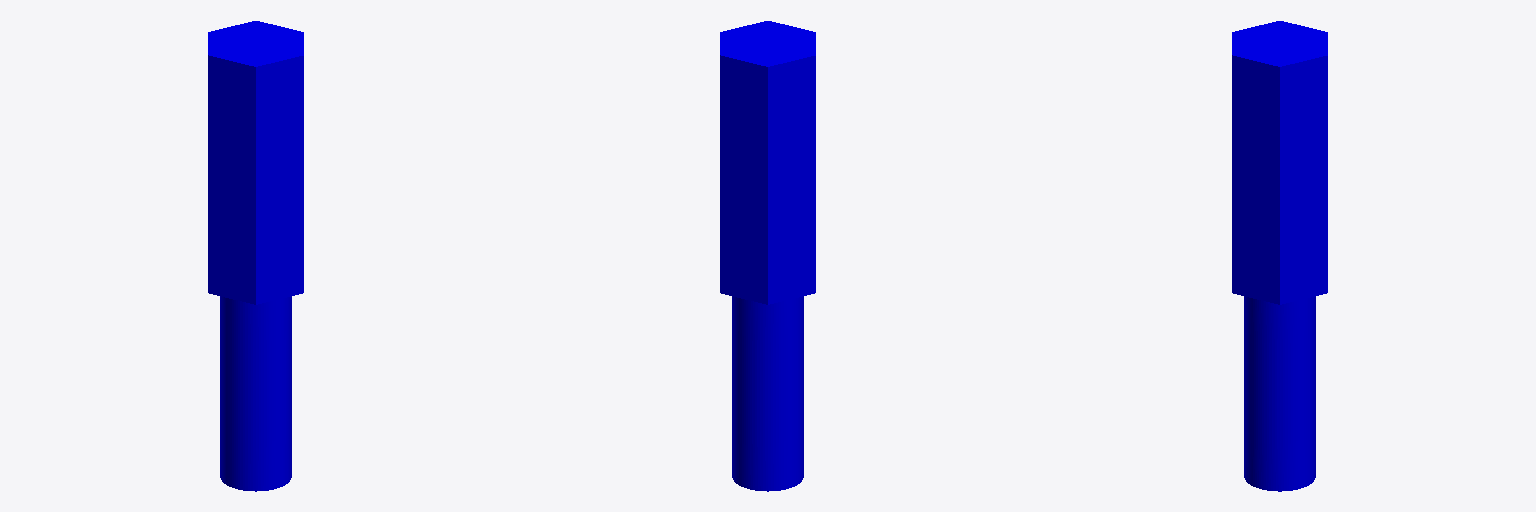
URDF robot description (board2_block1):
<?xml version="1.0"?>
<robot name="board2_block1">
    <link name="board2_block1">
        <visual>
            <origin xyz="0 0 0 " rpy=" 0 0 0"/>
            <geometry>
                <mesh filename="./MOMO_Board2_Block1.stl" scale="0.001 0.001 0.001"/>
            </geometry>
            <material name="red">
                <color rgba="0.0 0.0 1.0 1.0"/>
            </material>
        </visual>
        <collision>
            <origin xyz="0 0 0" rpy="0 0 0"/>
            <geometry>
                <mesh filename="./MOMO_Board2_Block1.stl" scale="0.001 0.001 0.001"/>
            </geometry>
        </collision>
    </link>
</robot>

--- Facts derived from the render (not from the file) ---
3 views of the same robot in one strip: view 1: azimuth 30°, elevation 25°; view 2: azimuth 150°, elevation 25°; view 3: azimuth 270°, elevation 25° (orthographic).
Robot: board2_block1 — 1 links, 0 joints (none); root link board2_block1; default pose: all joints at 0.
Links seen in each view (by area): view 1: board2_block1; view 2: board2_block1; view 3: board2_block1.
Boxes of the visible links, x1,y1,x2,y2 form: board2_block1: (208,21,303,491); board2_block1: (720,21,815,491); board2_block1: (1232,21,1327,491).
Bounding box of the posed robot: 0.0231 × 0.02 × 0.1 m (x, y, z).
Meshes: 1 distinct files referenced, 1 mesh visuals loaded (1 ASCII STL).